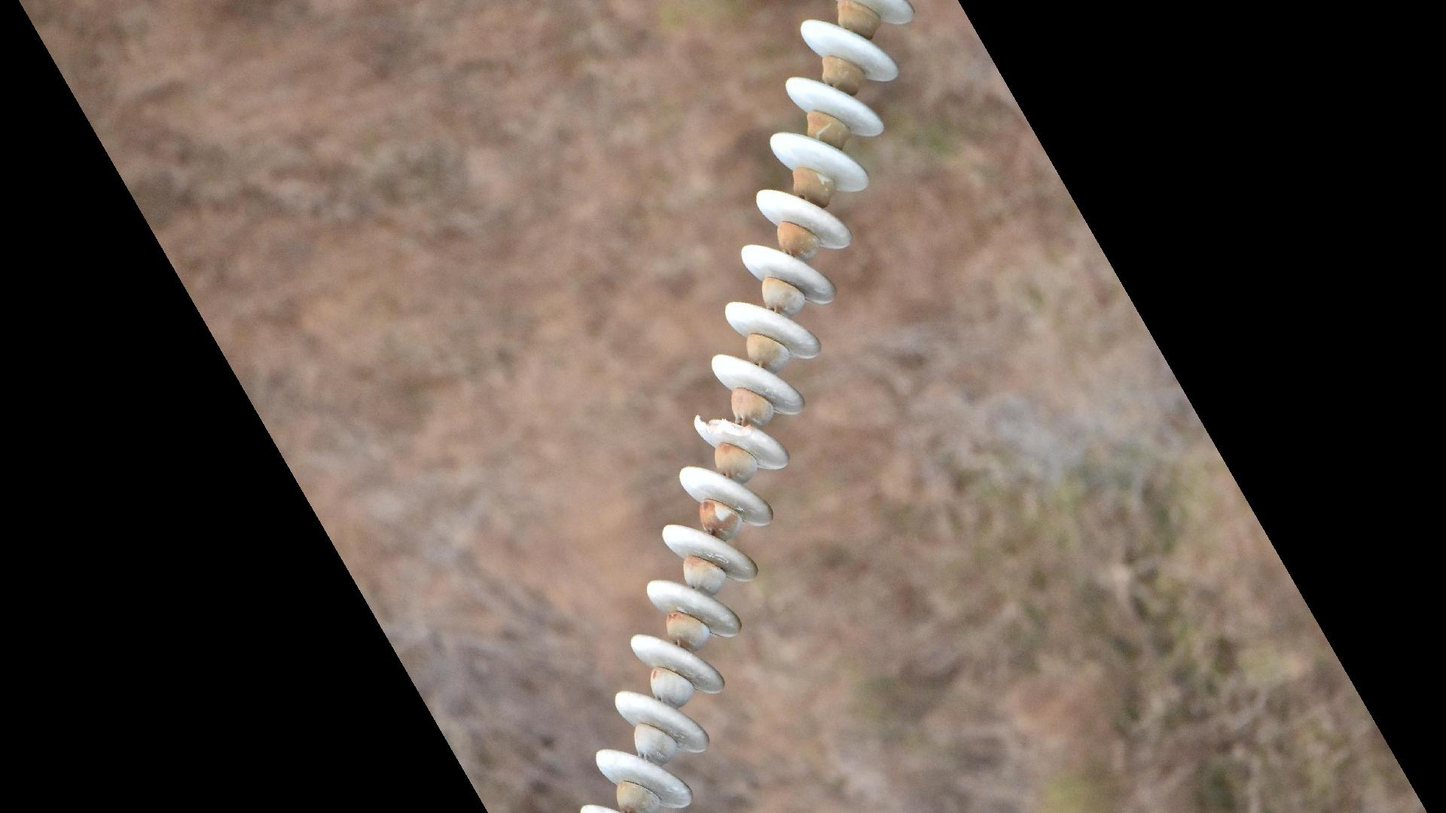insulator: (573, 1, 917, 813)
insulator_breakage: (691, 410, 758, 446)
